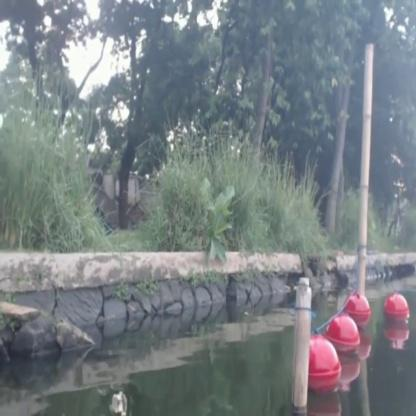red_buoy: (309, 334, 339, 394), (326, 310, 360, 356), (384, 293, 410, 331), (345, 290, 371, 324)
